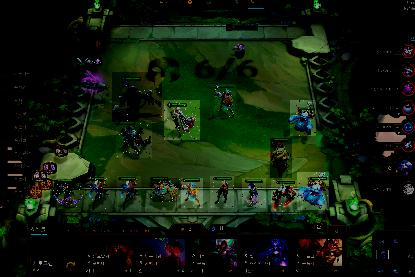1_diana: (210, 176, 234, 208)
1_leesin: (117, 176, 141, 212), (86, 176, 110, 210)
1_nunu: (297, 172, 329, 210), (290, 100, 316, 136)
1_olaf: (271, 180, 297, 212)
1_seraphine: (150, 178, 180, 202)
1_varus: (52, 180, 84, 208), (242, 178, 266, 208)
1_volibear: (270, 138, 292, 178)
1_zeri: (181, 178, 203, 208)
2_rakan: (164, 100, 200, 140)
2_rengar: (112, 72, 162, 122)
2_sylas: (116, 120, 152, 158)
2_zeri: (214, 84, 236, 118)
